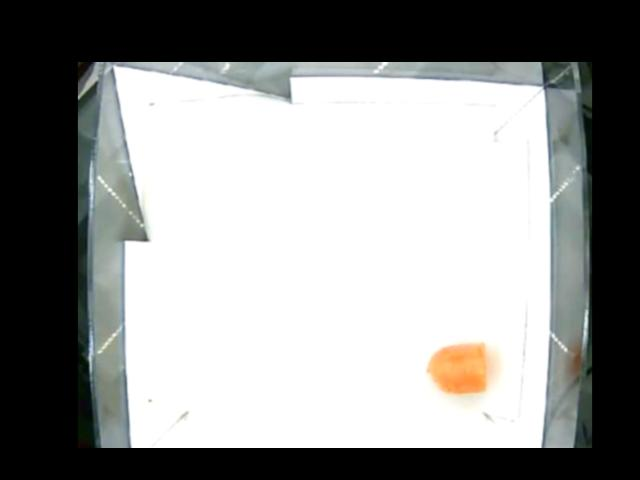Carrot: (428, 343, 489, 394)
